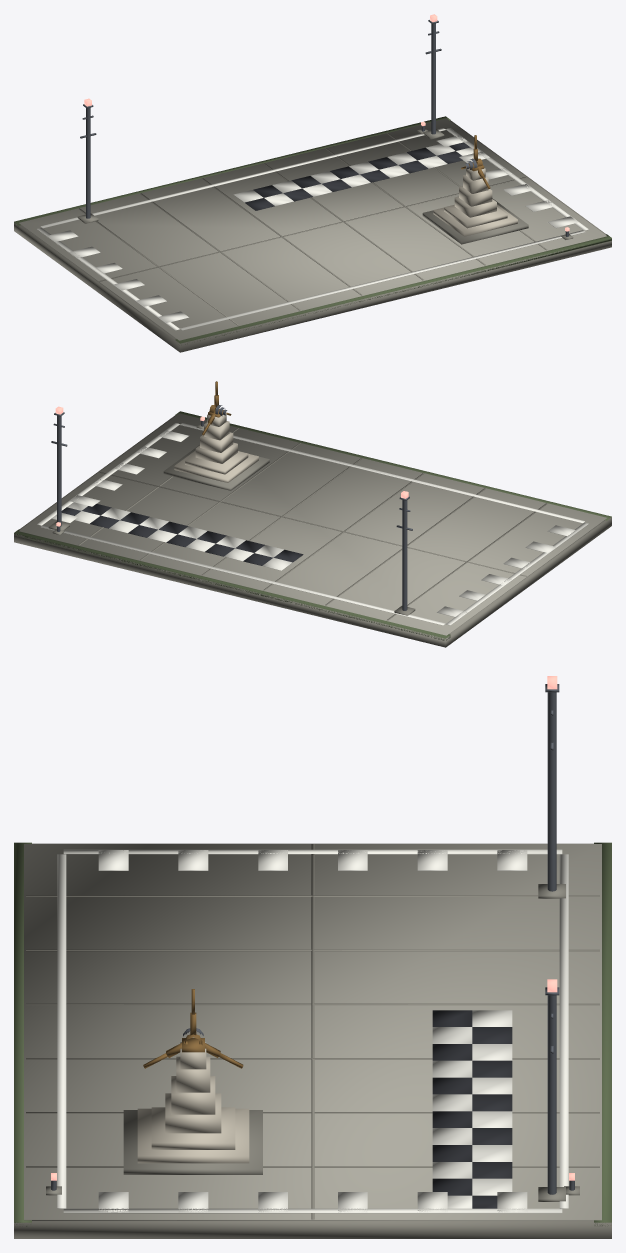
File: runway_crossing_spitfire.glb
The picture shows the model from 3 angles, top to bottom: view 1: azimuth 30°, elevation 25°; view 2: azimuth 150°, elevation 25°; view 3: azimuth 270°, elevation 25°; orthographic projection. The views are drawn at different scales.
Visible parts, largest first — view 1: Surface_concrete, Surface_concrete_dark, Surface_paint, Surface_grass_edge, Surface_stone, Surface_paint_dark, Surface_steel; view 2: Surface_concrete, Surface_concrete_dark, Surface_paint, Surface_grass_edge, Surface_stone, Surface_paint_dark, Surface_steel; view 3: Surface_concrete, Surface_paint, Surface_concrete_dark, Surface_stone, Surface_paint_dark, Surface_grass_edge, Surface_steel, Surface_bronze.
Part boxes in pixels (<box>): Surface_concrete: <box>19,118,606,340</box>; Surface_concrete_dark: <box>14,120,611,352</box>; Surface_paint: <box>37,128,588,330</box>; Surface_grass_edge: <box>14,116,611,344</box>; Surface_stone: <box>433,166,517,236</box>; Surface_paint_dark: <box>245,142,470,210</box>; Surface_steel: <box>80,20,568,236</box>; Surface_concrete: <box>19,413,606,635</box>; Surface_concrete_dark: <box>14,415,611,647</box>; Surface_paint: <box>37,423,588,625</box>; Surface_grass_edge: <box>14,411,611,640</box>; Surface_stone: <box>174,413,258,482</box>; Surface_paint_dark: <box>61,504,303,565</box>; Surface_steel: <box>51,405,412,610</box>; Surface_concrete: <box>24,844,601,1220</box>; Surface_paint: <box>57,849,568,1213</box>; Surface_concrete_dark: <box>14,843,611,1238</box>; Surface_stone: <box>137,1042,249,1163</box>; Surface_paint_dark: <box>432,1010,512,1208</box>; Surface_grass_edge: <box>14,842,611,1226</box>; Surface_steel: <box>51,684,574,1194</box>; Surface_bronze: <box>143,989,243,1068</box>.
Size of the model in its own units: 45 by 12.85 by 30.
